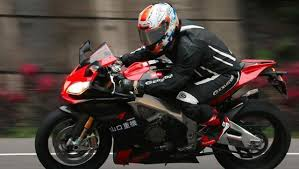helmet: (137, 7, 183, 47)
